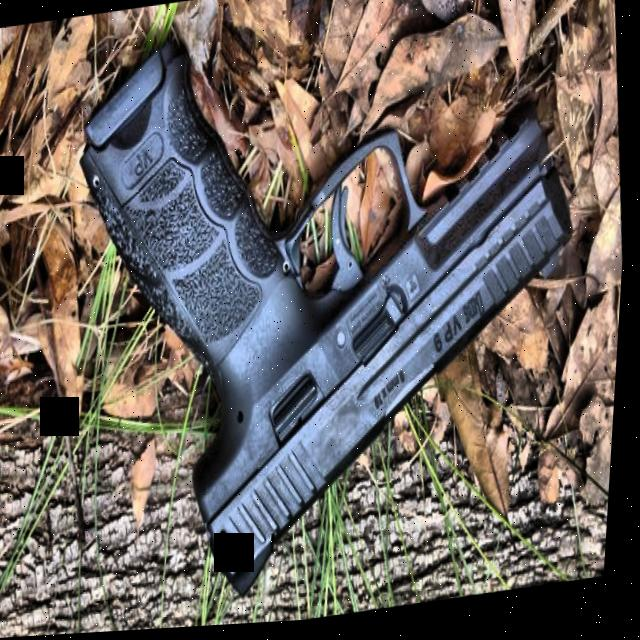HKVP9: (49, 0, 616, 623)
